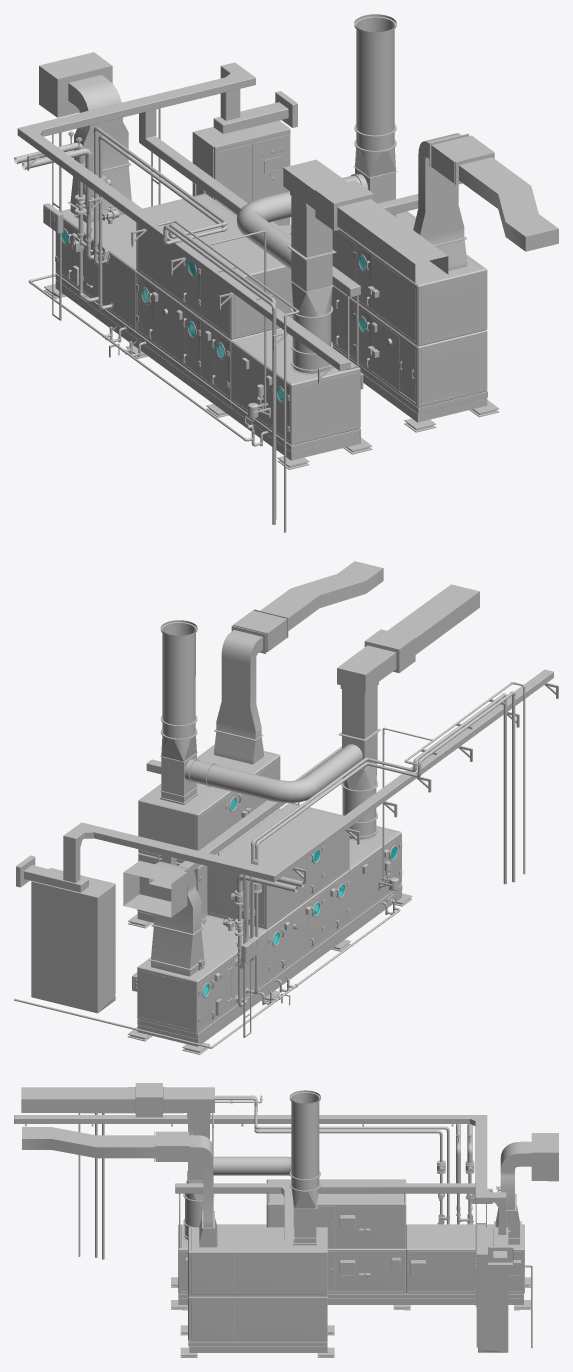
3 renders of one model, top to bottom at view 1: azimuth 30°, elevation 25°; view 2: azimuth 150°, elevation 25°; view 3: azimuth 270°, elevation 25°, orthographic. The views are drawn at different scales.
Visible parts, largest first — view 1: guizi_1_1, guandao_2_1, guandao_1_1, guizi_1_2, guandao_3_1, guizi_2_1, daoju; view 2: guandao_2_1, guizi_1_1, guandao_1_1, guizi_2_1, guandao_3_1, guizi_1_2, daoju; view 3: guandao_2_1, guizi_1_1, guizi_1_2, guandao_1_1, guandao_3_1, guizi_2_1, daoju.
Boxes of the visible parts, left/top/right/bottom form: guizi_1_1: left=44, top=193, right=372, bottom=469; guandao_2_1: left=236, top=14, right=558, bottom=374; guandao_1_1: left=17, top=52, right=418, bottom=441; guizi_1_2: left=331, top=211, right=499, bottom=432; guandao_3_1: left=14, top=126, right=299, bottom=532; guizi_2_1: left=192, top=120, right=290, bottom=225; daoju: left=43, top=131, right=392, bottom=389; guandao_2_1: left=160, top=561, right=479, bottom=840; guizi_1_1: left=127, top=803, right=412, bottom=1054; guandao_1_1: left=14, top=669, right=558, bottom=1048; guizi_2_1: left=31, top=868, right=115, bottom=1013; guandao_3_1: left=234, top=682, right=525, bottom=1006; guizi_1_2: left=128, top=745, right=280, bottom=928; daoju: left=132, top=808, right=388, bottom=1015; guandao_2_1: left=21, top=1083, right=320, bottom=1247; guizi_1_1: left=171, top=1179, right=530, bottom=1310; guizi_1_2: left=180, top=1227, right=334, bottom=1357; guandao_1_1: left=14, top=1100, right=558, bottom=1348; guandao_3_1: left=78, top=1095, right=474, bottom=1259; guizi_2_1: left=475, top=1227, right=508, bottom=1352; daoju: left=184, top=1133, right=521, bottom=1279.
Size of the model in its own units: 523 by 572 by 1142.
